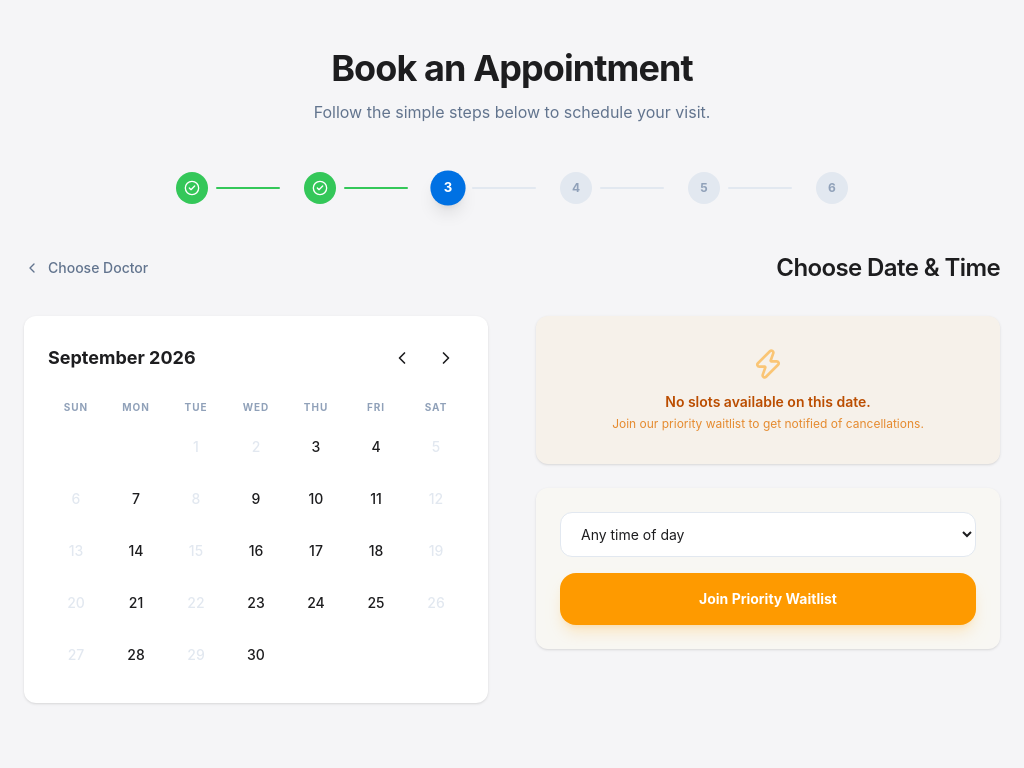
BookAppointment Page Component › handles waitlist joining when no slots are available
The width and height of the screenshot is (1024, 768).
Expected: the heading "Choose Date & Time" is shown, x1=776 y1=252 x2=1000 y2=284
Expected: the text "No slots available on this date." is shown, x1=665 y1=393 x2=871 y2=410
# Click "Join Priority Waitlist"
Click the button "Join Priority Waitlist".
click(768, 599)  # box x1=560 y1=573 x2=976 y2=625
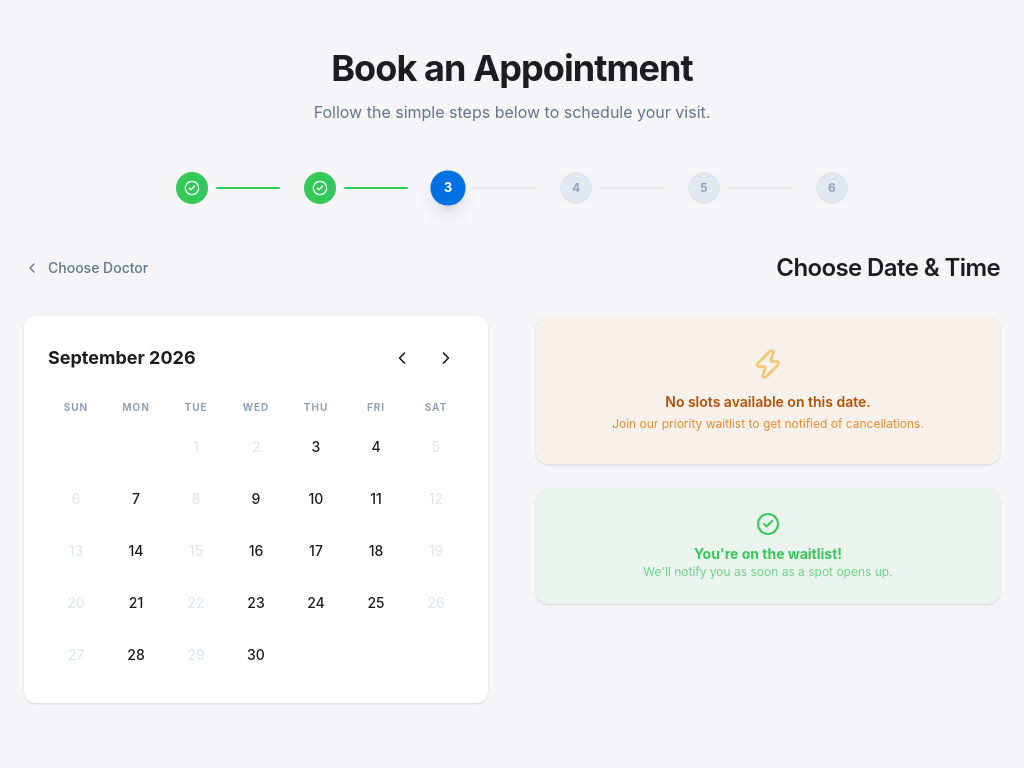
Expected: the text "You're on the waitlist!" is shown, x1=694 y1=545 x2=842 y2=562
